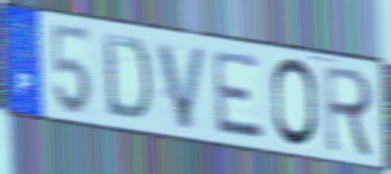5: (49, 21, 94, 119)
D: (100, 30, 154, 125)
E: (210, 48, 268, 143)
O: (270, 55, 321, 151)
R: (323, 62, 378, 161)
V: (154, 39, 210, 133)
